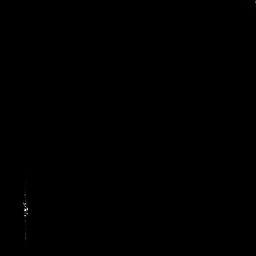ship: (21, 192, 29, 245)
